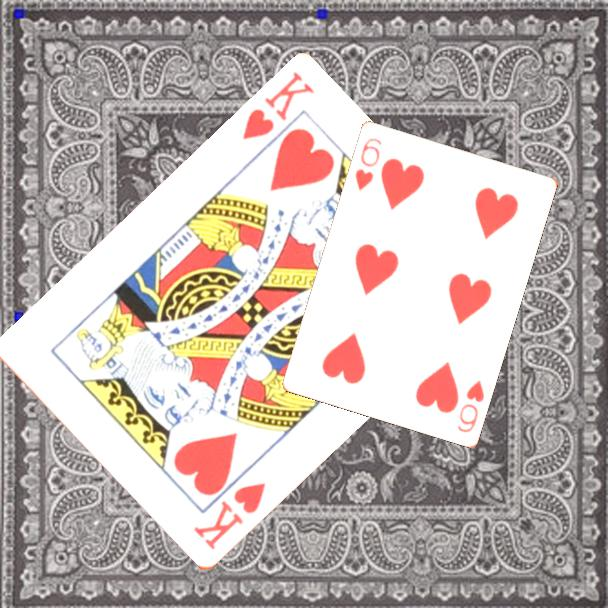h06: (351, 134, 384, 194), (454, 376, 487, 435)
h13: (190, 479, 269, 554), (238, 69, 317, 144)
